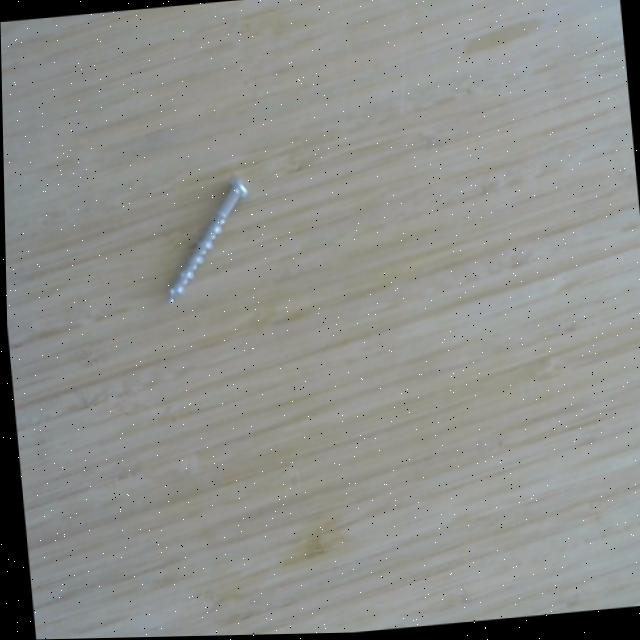Medium screw: (152, 170, 259, 310)
